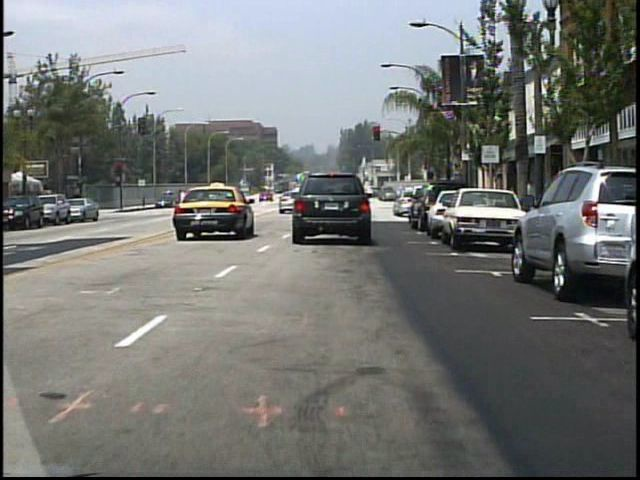person: (349, 186, 367, 218), (182, 188, 197, 213)
